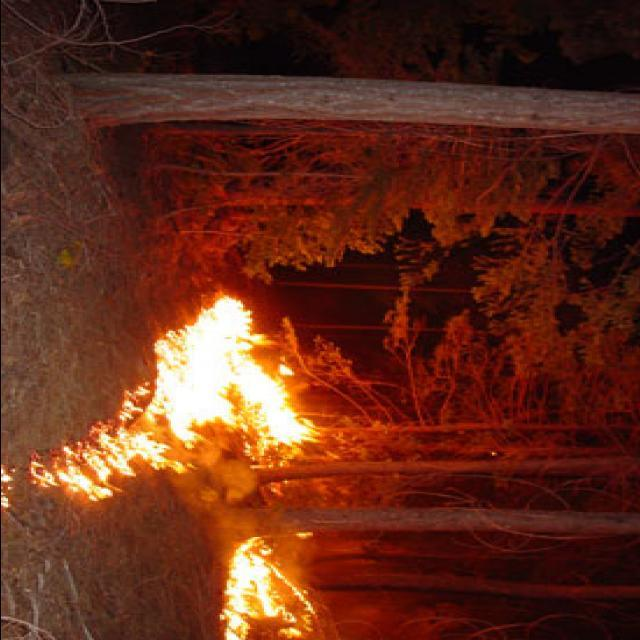Fire: (33, 299, 326, 640)
